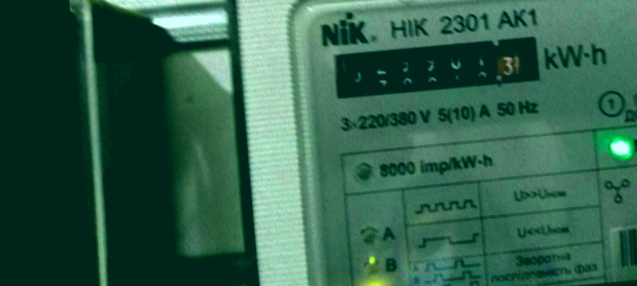0: (446, 45, 462, 72), (346, 61, 364, 83)
1: (471, 44, 486, 68)
2: (371, 56, 389, 76)
3: (499, 53, 514, 76)
9: (422, 50, 437, 73), (397, 52, 411, 75)
screen: (319, 25, 550, 109)
